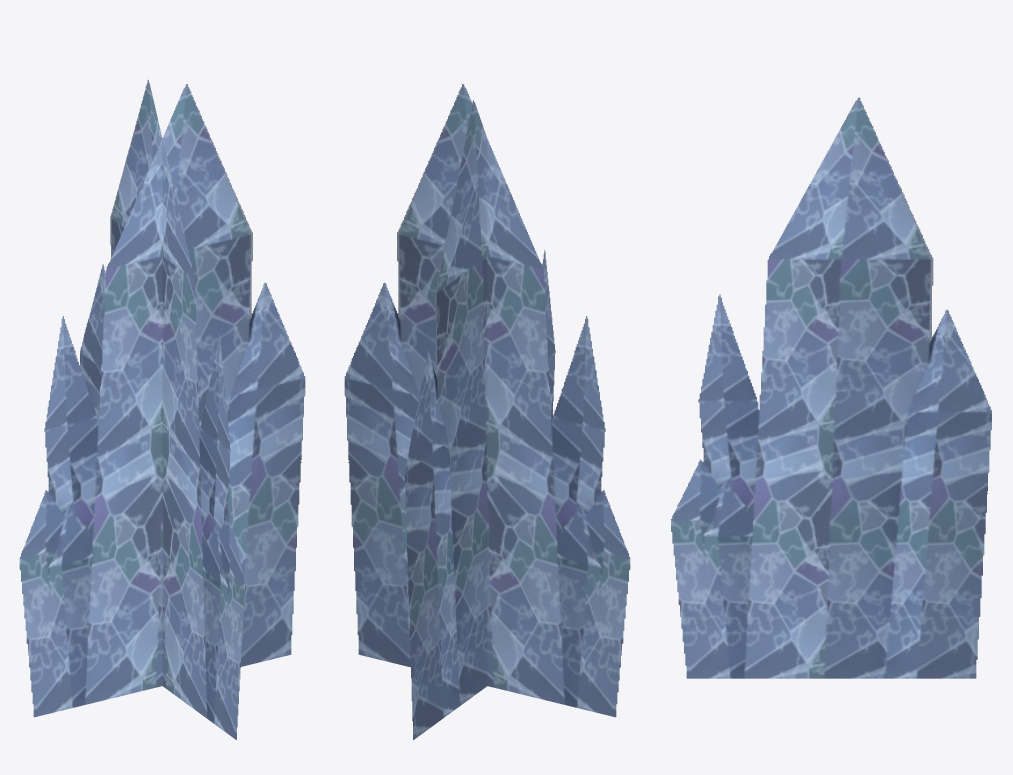
Rendered from Oracle_Crystal_Slab_2_BB.gltf.
The picture shows the model from 3 angles, left to right: view 1: azimuth 30°, elevation 25°; view 2: azimuth 150°, elevation 25°; view 3: azimuth 270°, elevation 25°; orthographic projection. The views are drawn at different scales.
Parts seen in each view (by area): view 1: Oracle_Crystal_Slab_2_BB; view 2: Oracle_Crystal_Slab_2_BB; view 3: Oracle_Crystal_Slab_2_BB.
Part boxes in pixels (<box>): Oracle_Crystal_Slab_2_BB: <box>19,80,305,739</box>; Oracle_Crystal_Slab_2_BB: <box>344,84,630,739</box>; Oracle_Crystal_Slab_2_BB: <box>671,97,991,678</box>.
Size of the model in its own units: 19.24 by 38.48 by 19.24.
Materials: 1 (1 with a texture image).
